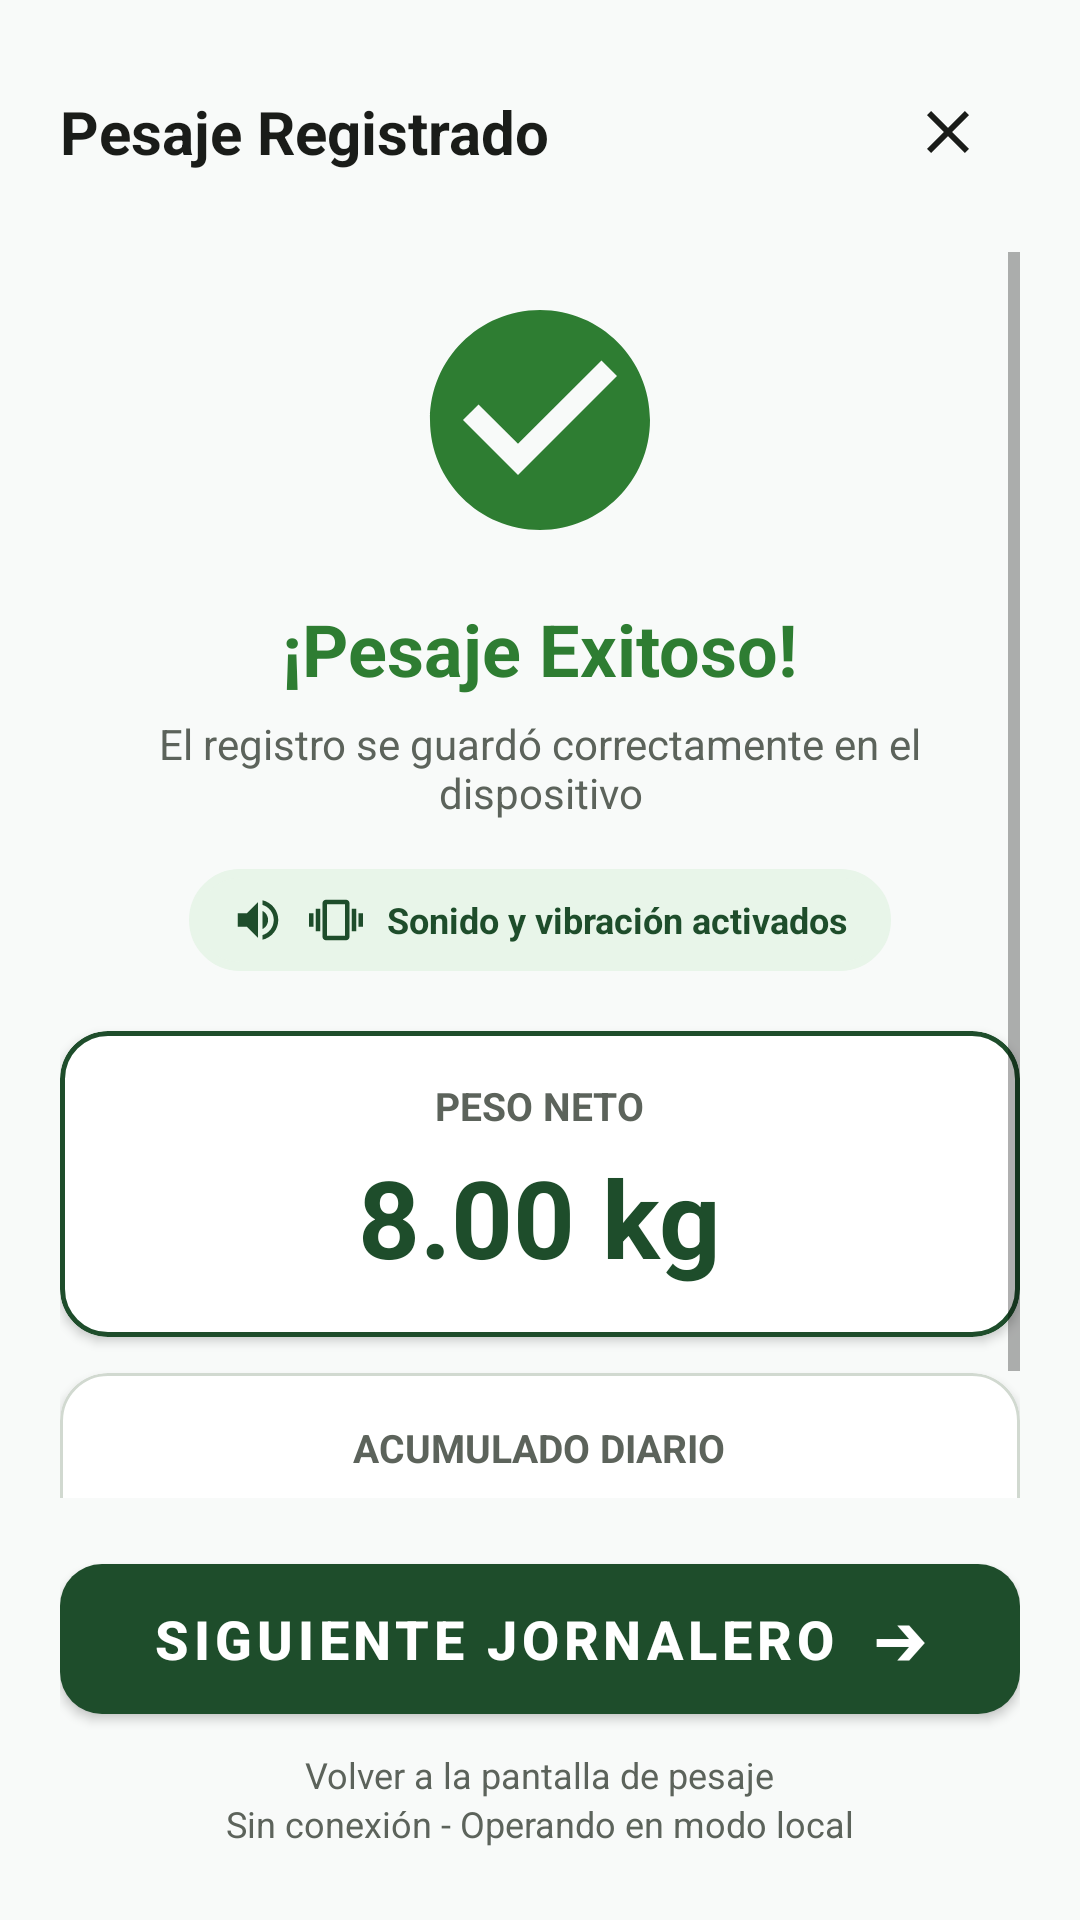

Point at icon controls on the screen. Image size 1080x1920, points as [x,y].
Cerrar y volver al Menú: [948,132]
Estado de Pesaje: [540,420]
